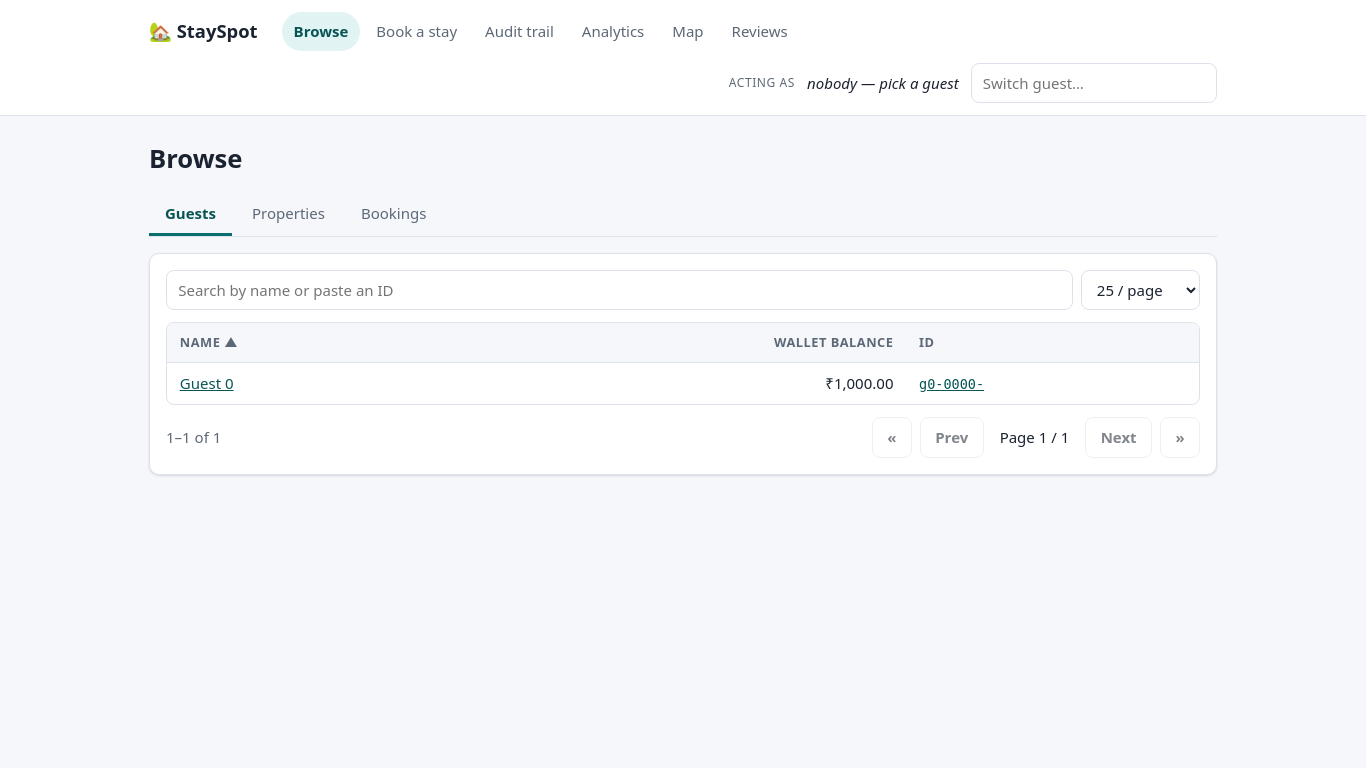
Browse › debounces the search box and sends q
Expected: the link "Guest 0" is shown, [180,373,234,393]
Type "ana" into the search field with placeholder "Search by name or paste an ID" at (619, 290), box [166,270,1073,310]
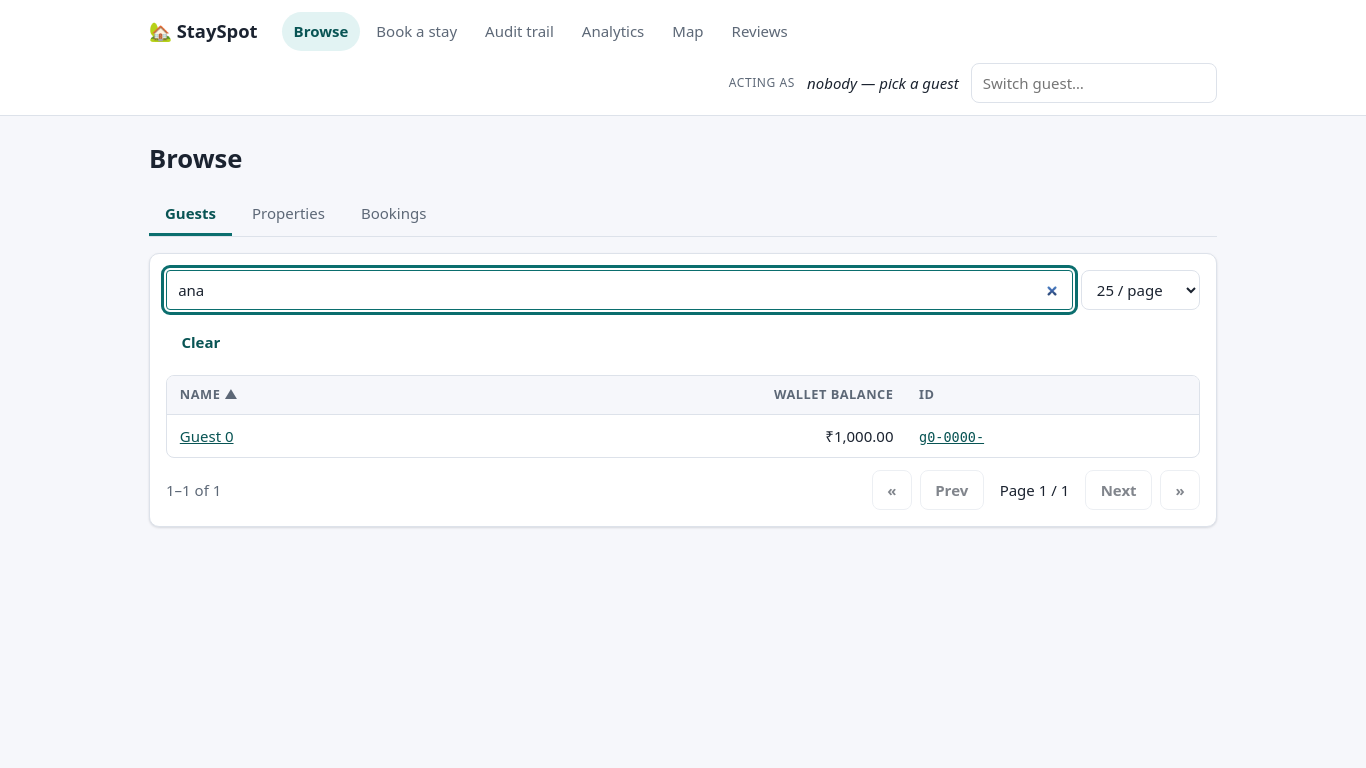
Expected: the button "Clear" is shown, [166,322,236,363]
